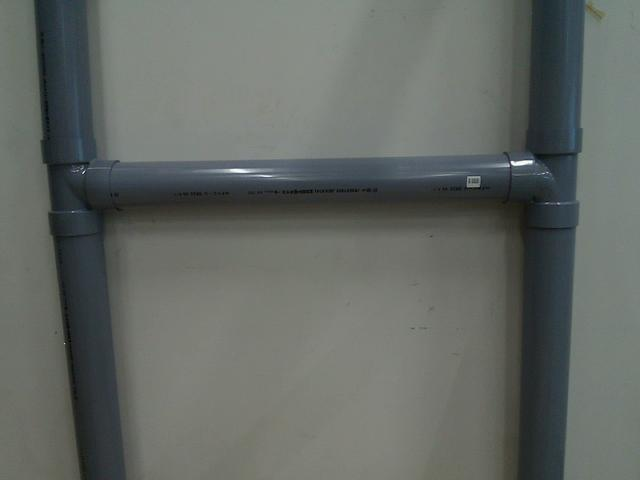junction: (502, 126, 589, 230), (39, 143, 118, 239)
